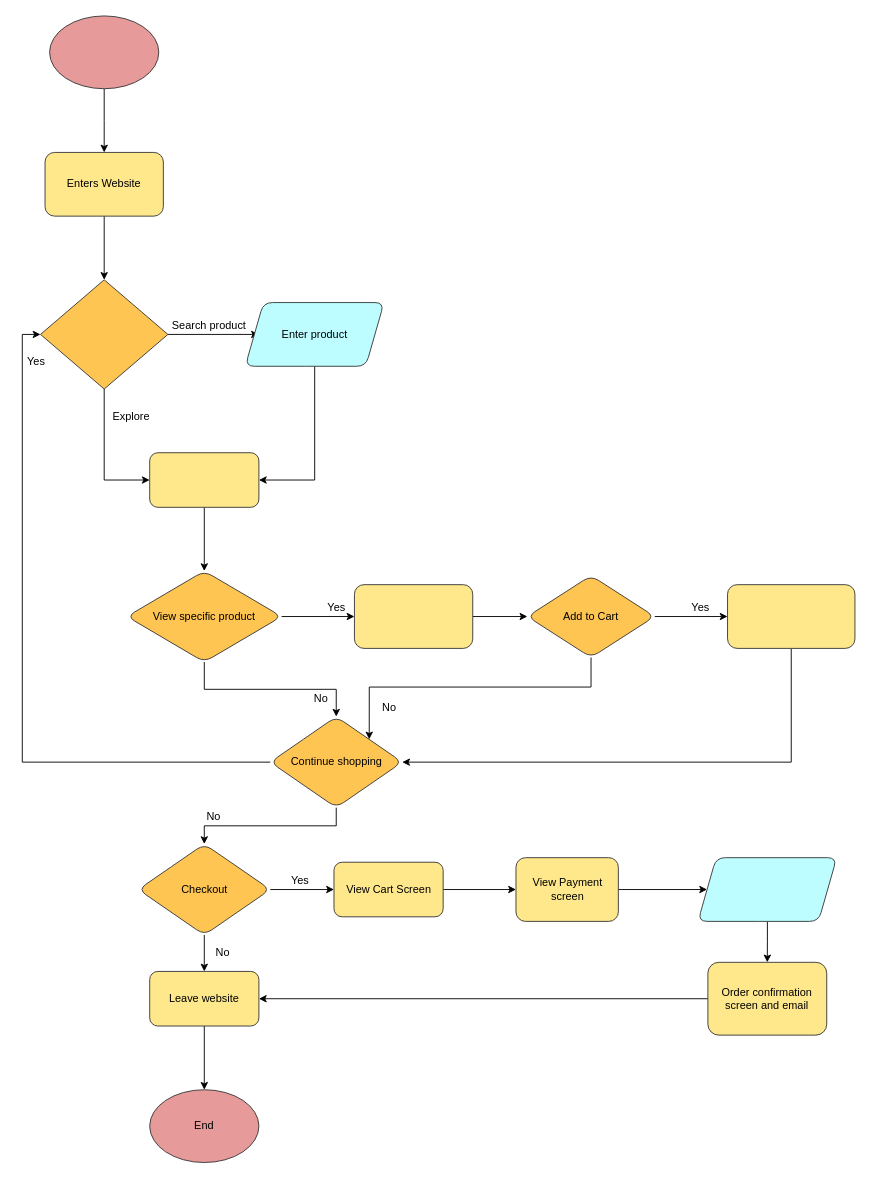
Image size: 871x1178. Some labels were removed from this diagram. Here are the shapes that lost their labels. From the top down, the centre of each, then its label:
point 104,52: Start
point 104,334: Search product or Explore home page
point 204,479: Look over products
point 413,616: Open Product's Webpage
point 791,616: Receives Cart Confirmation
point 767,889: Enter payment info
